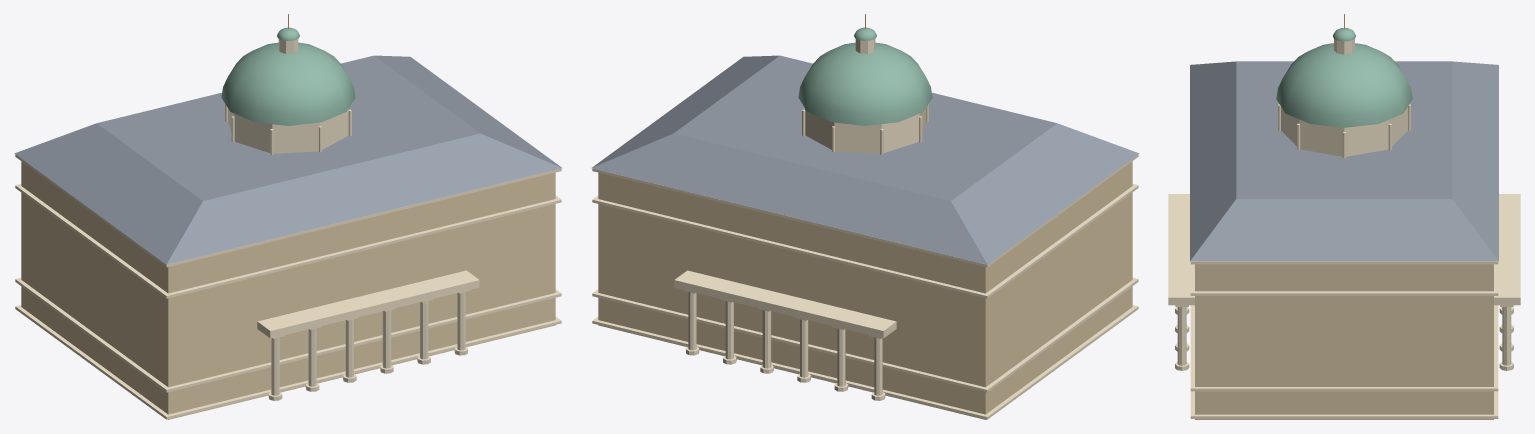
Rendered from hsbc-lod2.glb.
The picture shows the model from 3 angles, left to right: view 1: azimuth 30°, elevation 25°; view 2: azimuth 150°, elevation 25°; view 3: azimuth 270°, elevation 25°; orthographic projection.
Visible parts, largest first — view 1: hsbc_architecture; view 2: hsbc_architecture; view 3: hsbc_architecture.
Part boxes in pixels (<box>): hsbc_architecture: <box>14,14,562,419</box>; hsbc_architecture: <box>591,14,1139,419</box>; hsbc_architecture: <box>1168,14,1520,419</box>.
Size of the model in its own units: 35.8 by 26.3 by 27.1.
